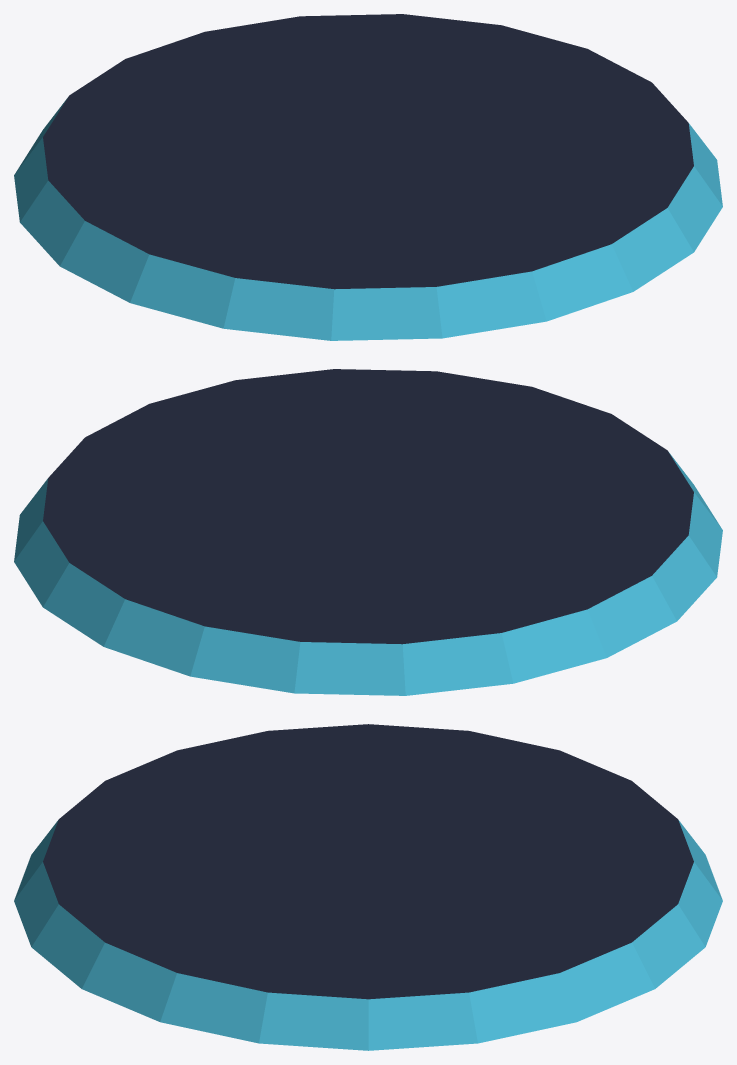
The model's file is pedestal.glb.
The picture shows the model from 3 angles, top to bottom: view 1: azimuth 30°, elevation 25°; view 2: azimuth 150°, elevation 25°; view 3: azimuth 270°, elevation 25°; orthographic projection.
Parts seen in each view (by area): view 1: pedestal; view 2: pedestal; view 3: pedestal.
Part boxes in pixels (box(x1,y1,x2,y2)): pedestal: box(14, 14, 722, 340); pedestal: box(14, 369, 722, 695); pedestal: box(14, 724, 722, 1050).
Bounding box in the file's own units: 1.96 × 0.12 × 1.96.
